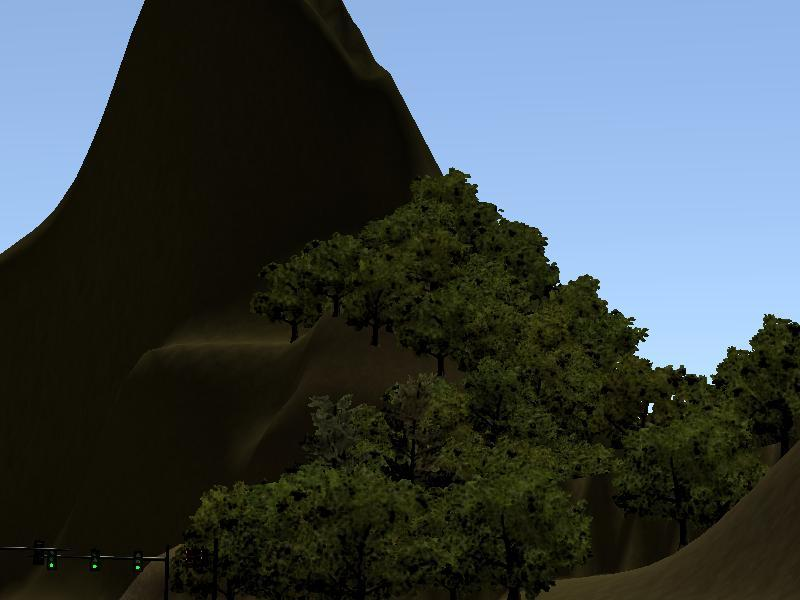Green: (128, 549, 142, 576), (45, 545, 57, 572), (88, 547, 98, 572)
